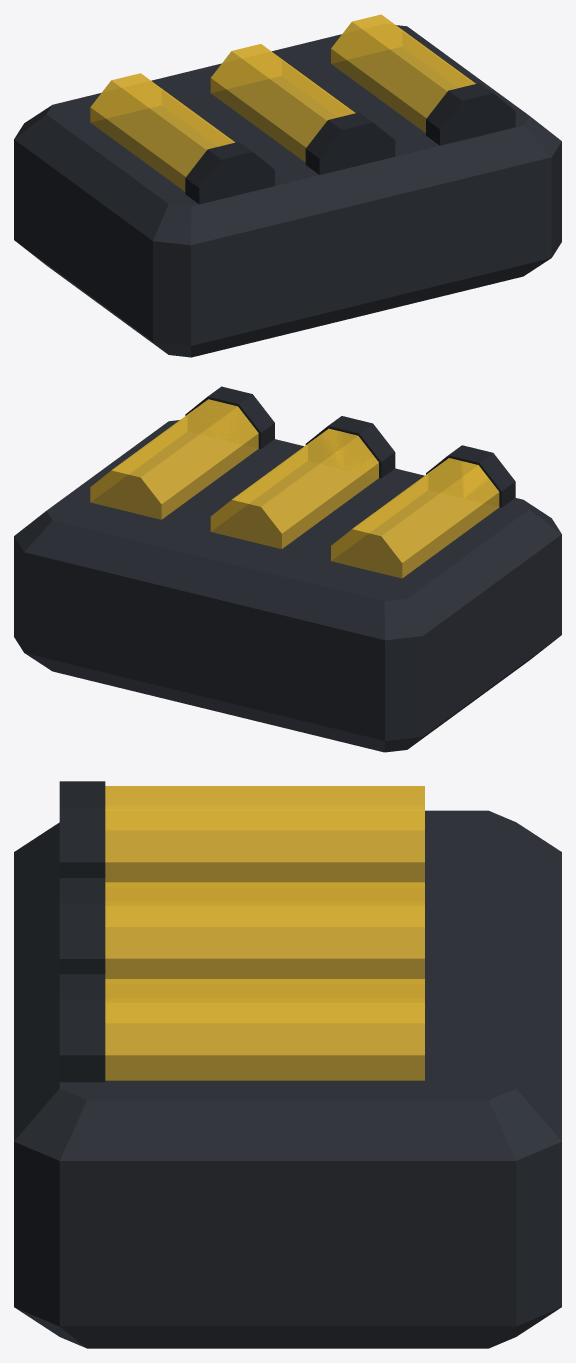
The model's file is pod_pickup.glb.
The picture shows the model from 3 angles, top to bottom: view 1: azimuth 30°, elevation 25°; view 2: azimuth 150°, elevation 25°; view 3: azimuth 270°, elevation 25°; orthographic projection. The views are drawn at different scales.
Visible parts, largest first — view 1: pod_pickup; view 2: pod_pickup; view 3: pod_pickup.
Boxes of the visible parts, x1,y1,x2,y2 form: pod_pickup: (14, 14, 561, 357); pod_pickup: (14, 386, 561, 752); pod_pickup: (14, 781, 561, 1348).
Bounding box in the file's own units: 0.34 × 0.1514 × 0.24.
